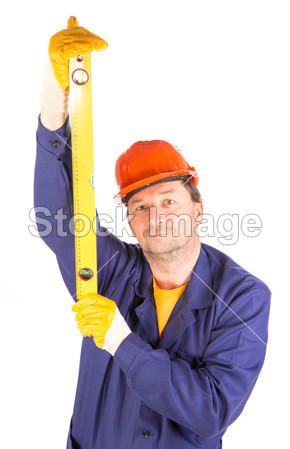helmet: (115, 138, 201, 197)
